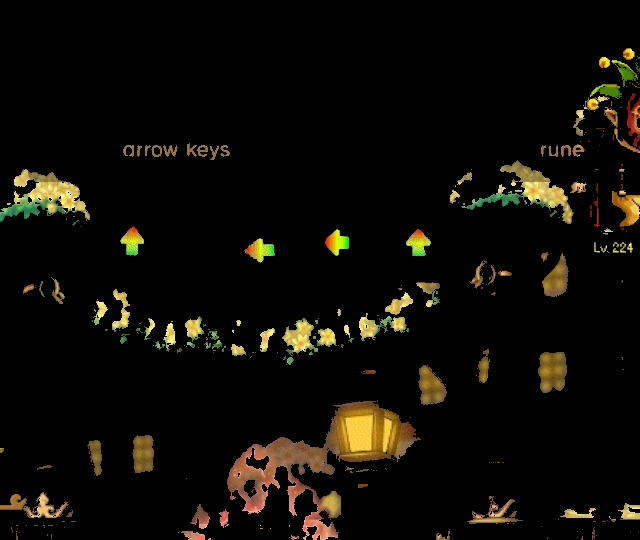rune_box: (79, 193, 496, 292)
